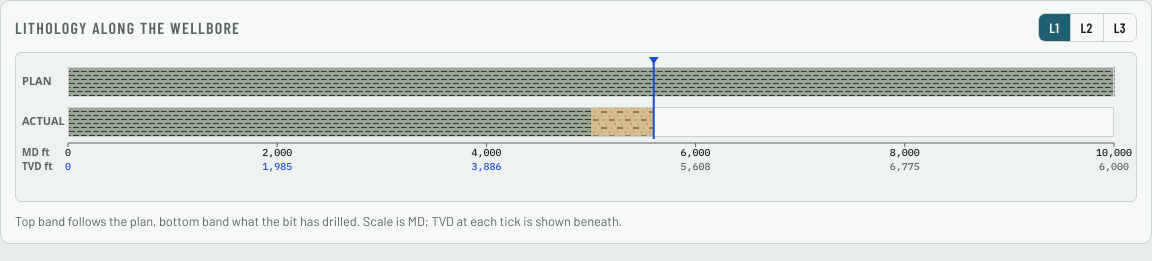
Test case: <WellboreLithology> › renders lateral selector buttons and switches selected lateral on click
Click the button "L2" at (1086, 28), box [1070,14,1103,41]
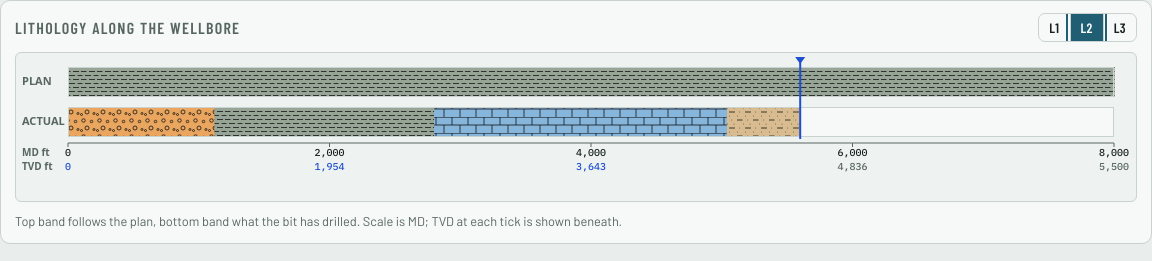
Expected: the button "L1" is not pressed, [1039,14,1070,41]
Expected: the button "L2" is pressed, [1070,14,1103,41]
